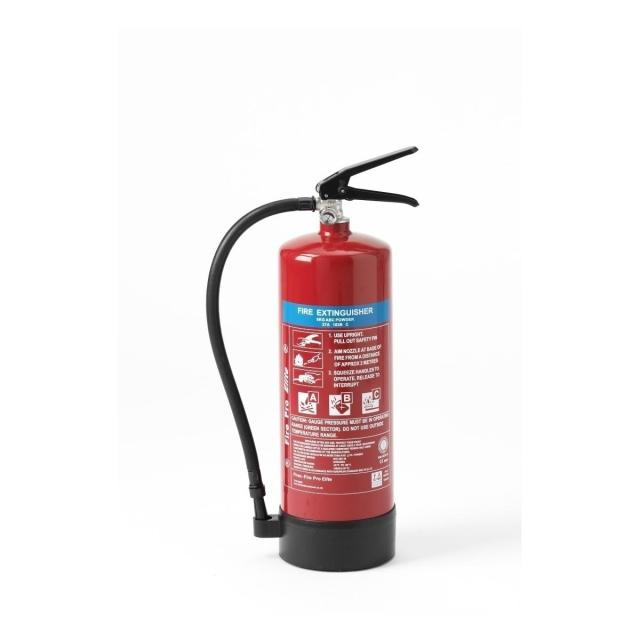fire_extinguisher: (201, 145, 424, 578)
